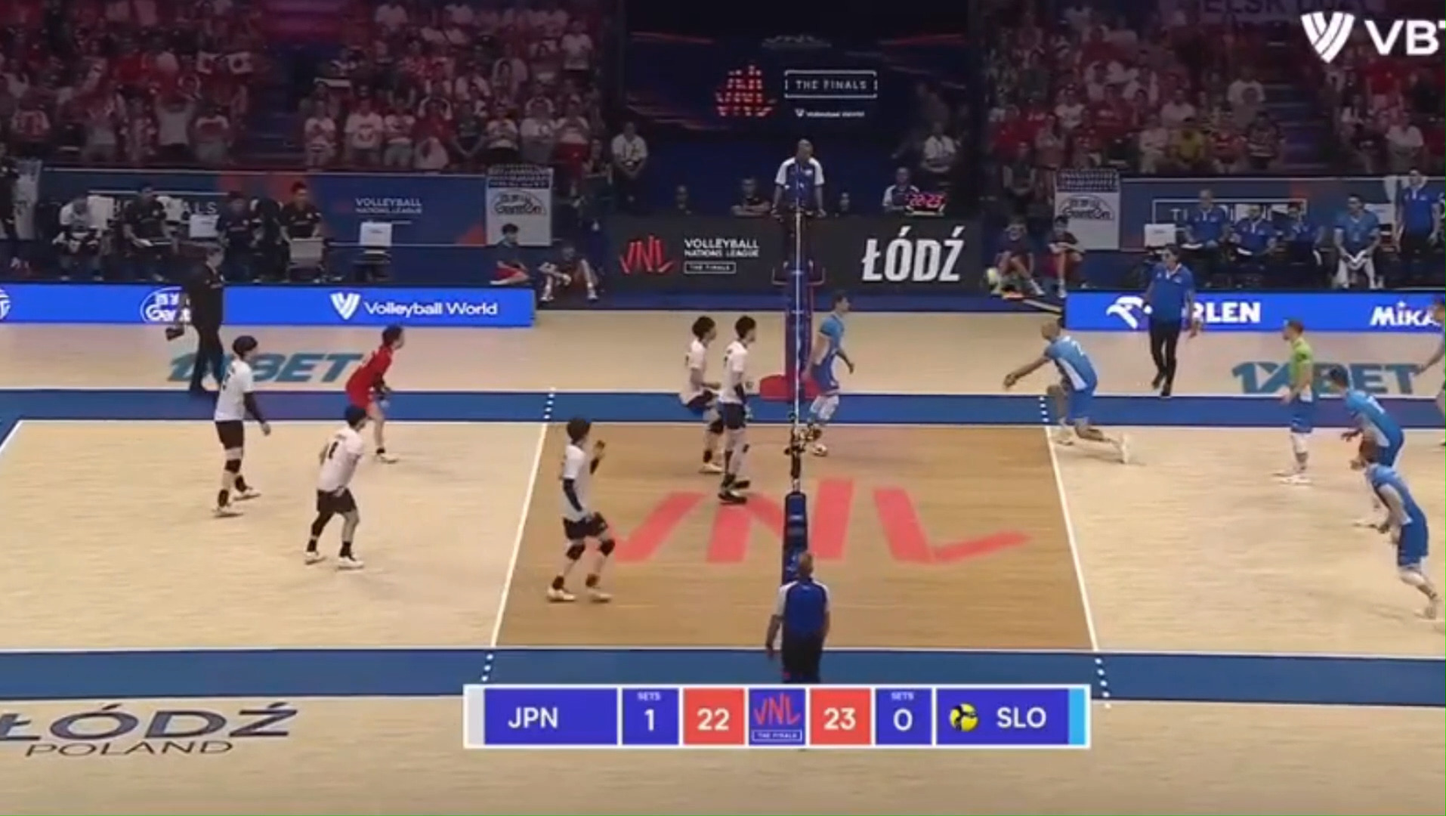ball: (985, 266, 1000, 286)
player: (1003, 318, 1128, 462), (1355, 440, 1440, 618), (804, 293, 854, 456), (1328, 368, 1404, 466), (1277, 319, 1315, 484), (1414, 298, 1445, 373), (1435, 380, 1445, 416)
player 1: (548, 417, 616, 602), (304, 406, 369, 569), (213, 335, 270, 516), (345, 324, 403, 462), (716, 316, 756, 503), (679, 316, 724, 473)
referee: (765, 552, 830, 684), (168, 246, 225, 394), (773, 139, 825, 286), (1144, 245, 1194, 397)
